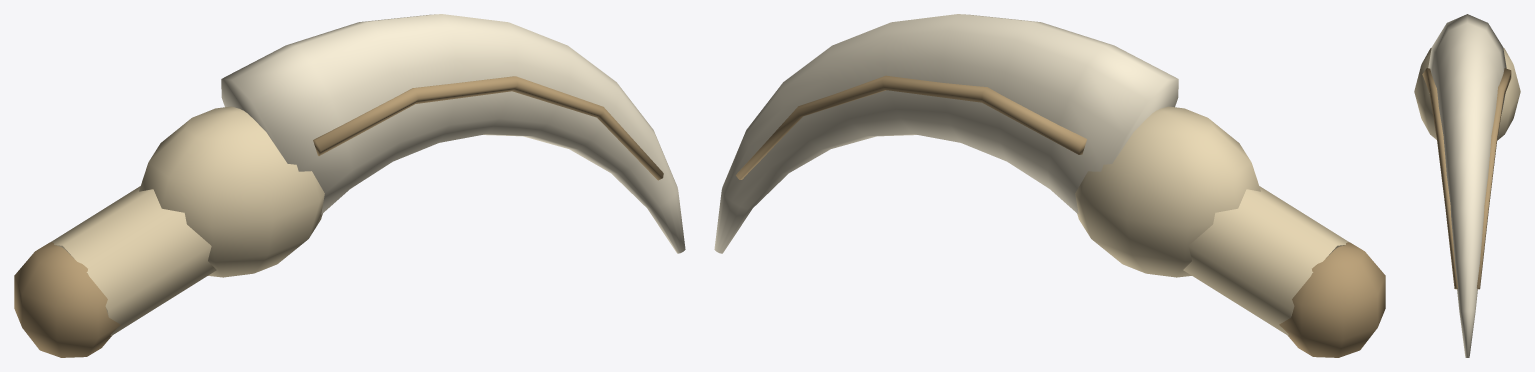
File: fossil-garra.glb
3 renders of one model, left to right at view 1: azimuth 30°, elevation 25°; view 2: azimuth 150°, elevation 25°; view 3: azimuth 270°, elevation 25°, orthographic. The views are drawn at different scales.
Parts seen in each view (by area): view 1: fossil-garra; view 2: fossil-garra; view 3: fossil-garra.
Boxes of the visible parts, box(x1,y1,x2,y2) form: fossil-garra: box(14, 14, 685, 357); fossil-garra: box(714, 14, 1385, 357); fossil-garra: box(1414, 14, 1520, 357).
Size of the model in its own units: 0.4586 by 0.2026 by 0.0928.
